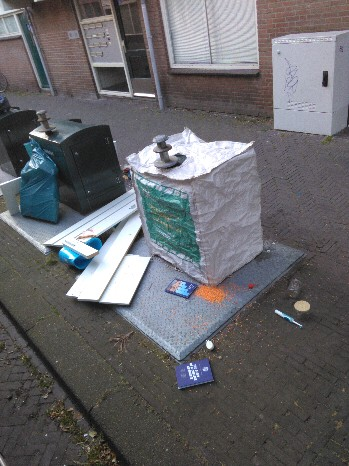Container: (122, 141, 270, 256), (43, 114, 127, 203)
Rest: (57, 224, 158, 309), (18, 153, 64, 218), (96, 206, 145, 230)
